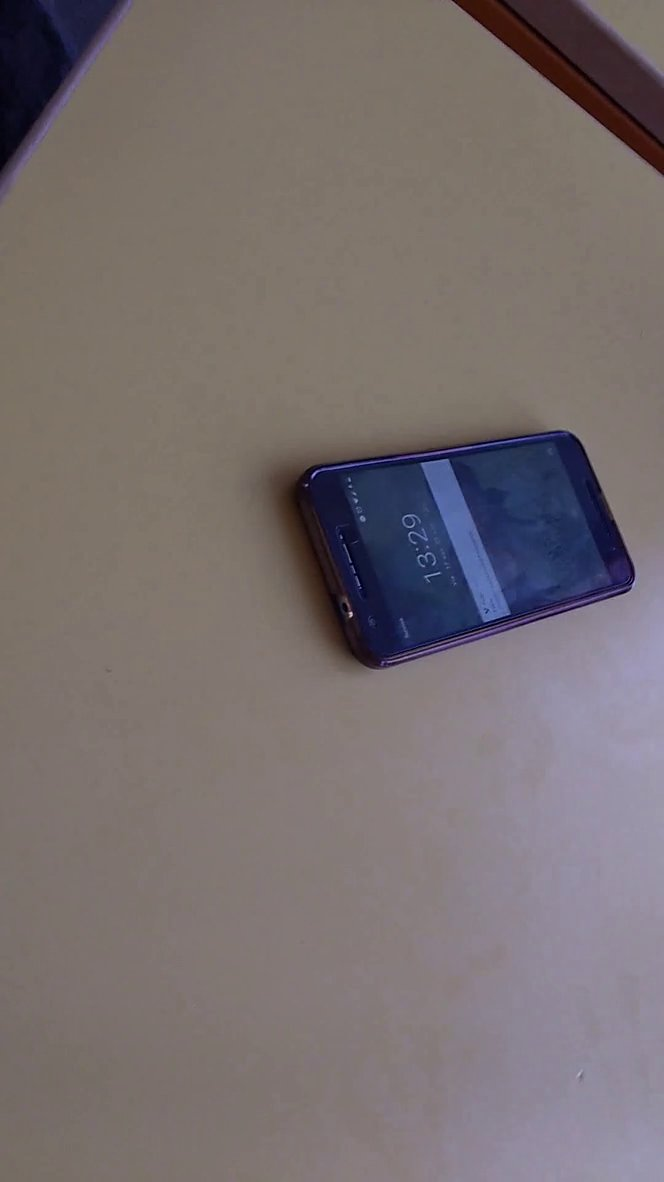phone: (280, 416, 646, 681)
